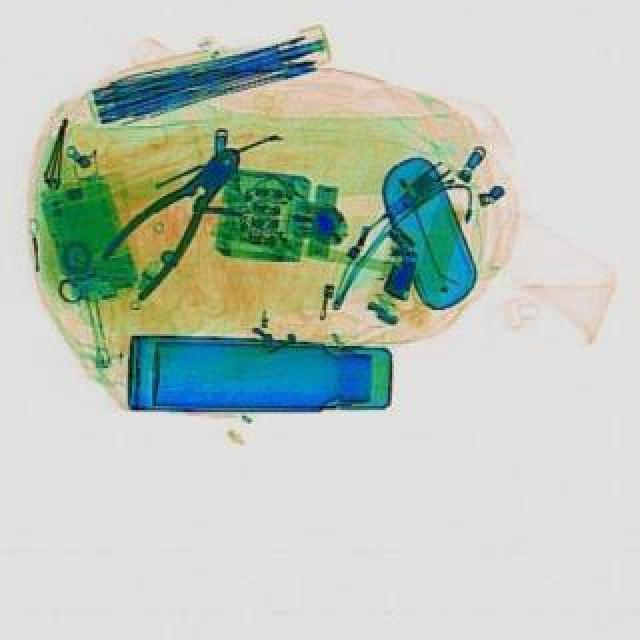wrench: (94, 130, 270, 308)
